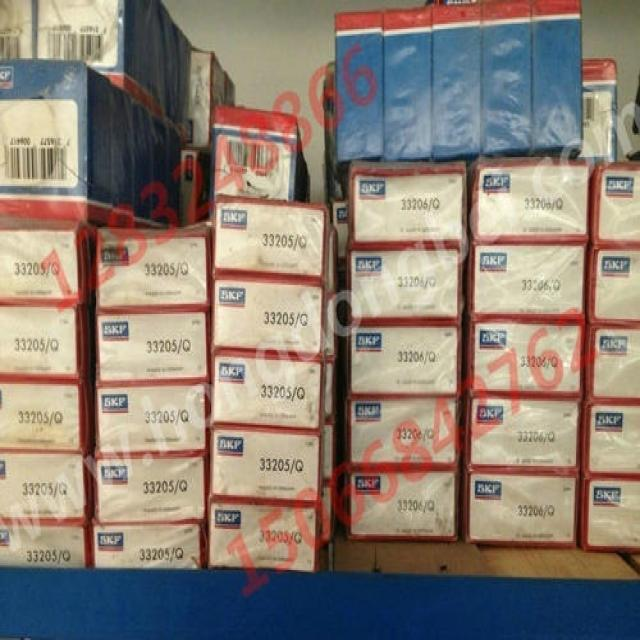box: (0, 60, 186, 225), (35, 1, 193, 136), (468, 157, 592, 247), (215, 198, 332, 293), (351, 160, 469, 249), (213, 273, 332, 361), (213, 107, 313, 205), (464, 318, 587, 396), (208, 492, 326, 572), (347, 247, 465, 327), (466, 396, 585, 475), (97, 225, 213, 306), (336, 11, 385, 202), (97, 305, 212, 386), (210, 423, 326, 500), (472, 244, 586, 322), (211, 356, 327, 432), (2, 221, 99, 311), (351, 393, 465, 469), (97, 381, 211, 456), (463, 474, 580, 547), (350, 325, 463, 398), (532, 0, 585, 155), (2, 300, 96, 384), (381, 9, 434, 156), (433, 3, 483, 158), (483, 1, 533, 156), (351, 468, 460, 539), (95, 456, 208, 524), (0, 448, 98, 523), (0, 379, 98, 450), (93, 522, 207, 570), (183, 49, 231, 150), (0, 518, 95, 567), (586, 318, 639, 403), (580, 475, 639, 550), (593, 160, 639, 253), (580, 56, 619, 162), (588, 400, 639, 479), (590, 244, 639, 326), (320, 61, 340, 212), (1, 1, 35, 60), (332, 199, 352, 259), (225, 79, 238, 105)
